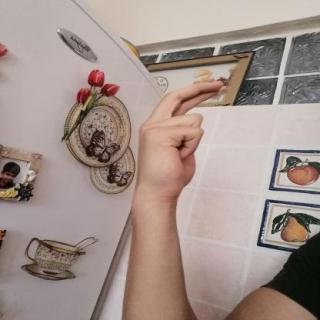ZAY: (124, 73, 237, 206)
